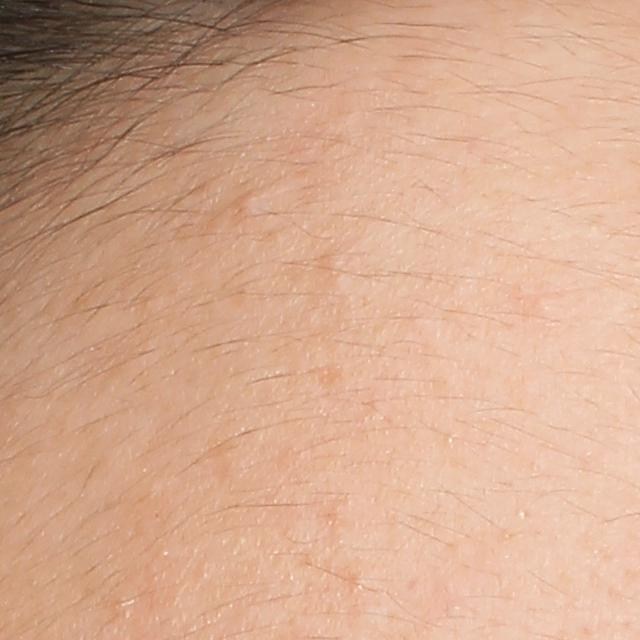comedo: (230, 189, 257, 216)
